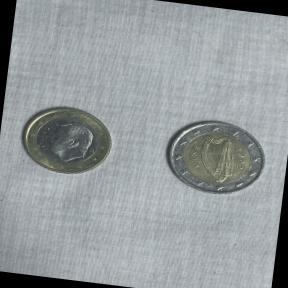1 Euro-B: (13, 97, 119, 183)
2 Euro-B: (157, 111, 274, 206)
